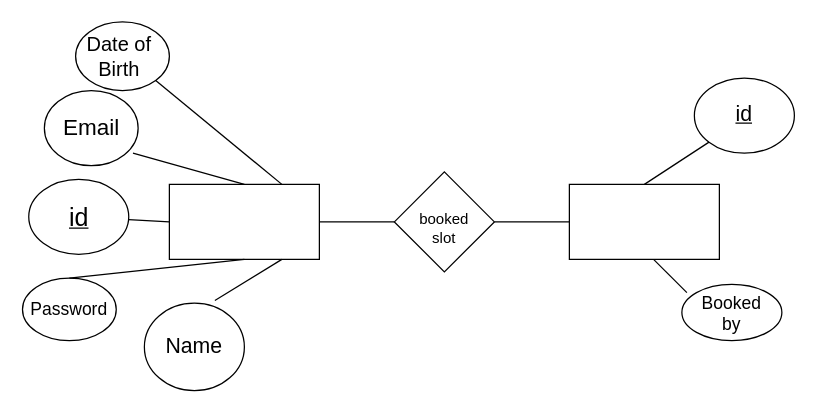
Some shapes in this 816 by 413 pixel diagram are drawn without their labels. The shapes that lost their labels are listed below. From the top down, each one's box as (x1, y1, x2, y2) in pixels, then its label:
(168, 183, 319, 259): User
(568, 183, 719, 259): Slot
